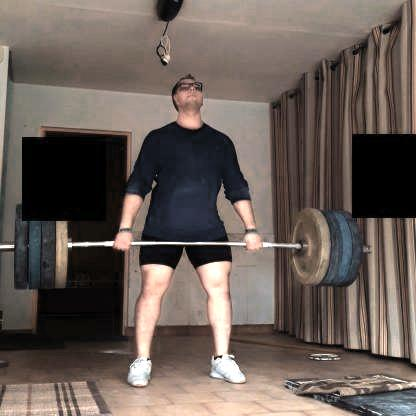barbell: (289, 208, 323, 287)
